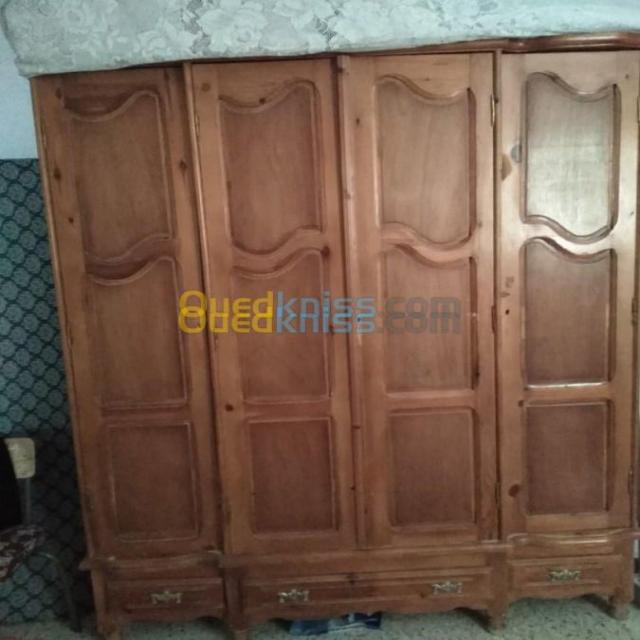wardrobe: (47, 69, 640, 618)
